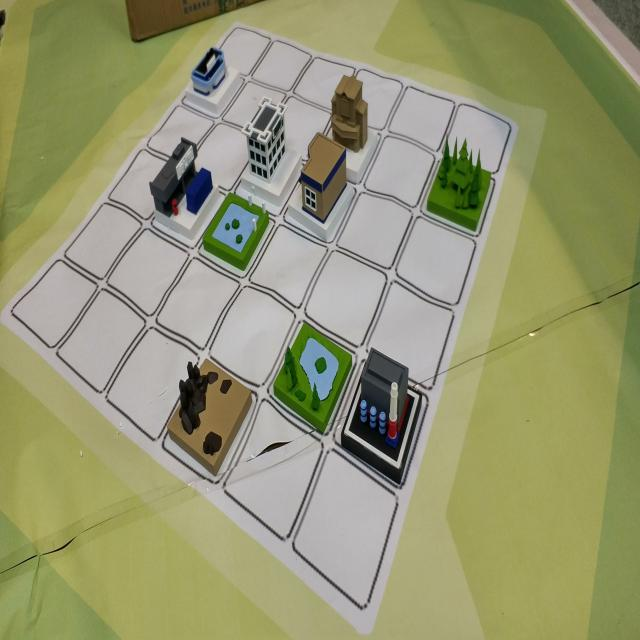bus_stop: (142, 135, 222, 244)
factory: (342, 338, 430, 498)
fish_pool: (199, 174, 273, 278)
forest: (423, 130, 497, 239)
gogo_shop: (183, 37, 250, 123)
research_build: (235, 88, 304, 207)
restaurant: (288, 124, 362, 248)
silicate_rock: (164, 340, 255, 480)
volunteer_center: (324, 68, 379, 165)
wet_land: (267, 304, 354, 432)
